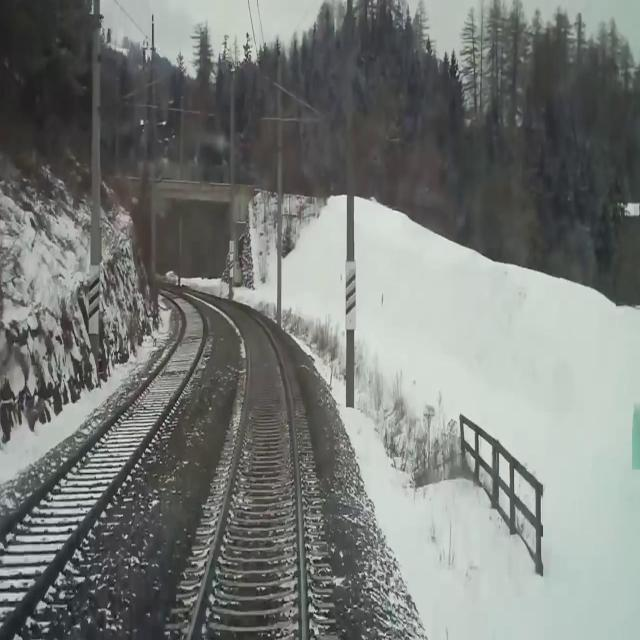rail-track: (0, 287, 204, 625), (192, 296, 301, 639)
